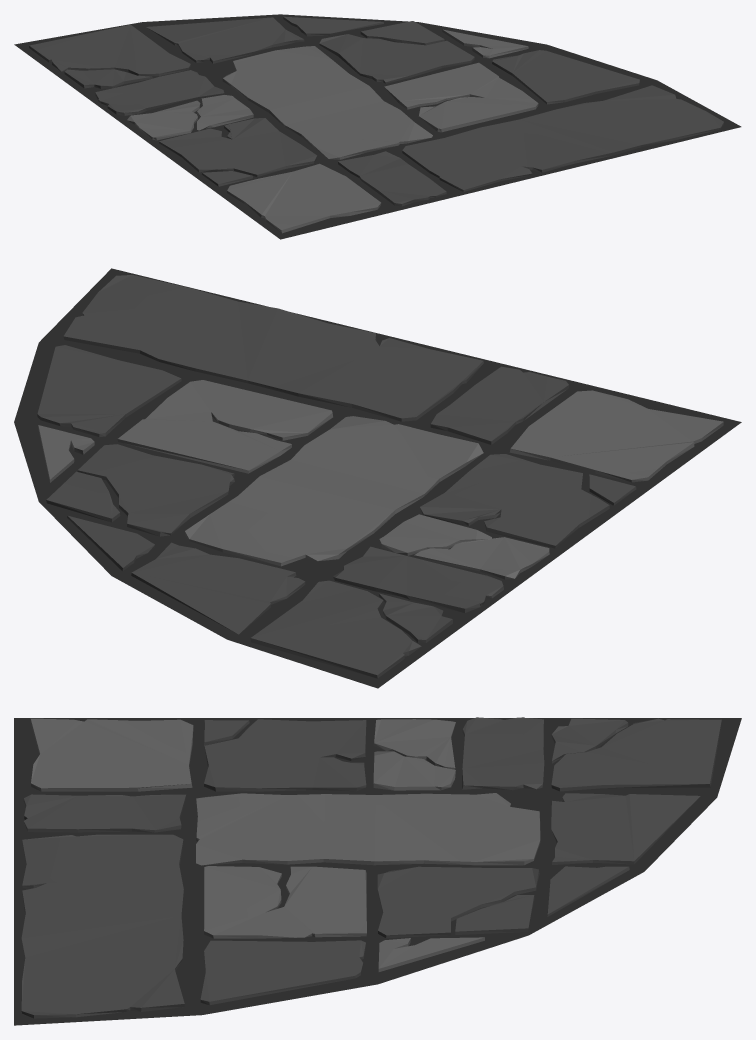
Rendered from FloorCorner_01.glb.
3 renders of one model, top to bottom at view 1: azimuth 30°, elevation 25°; view 2: azimuth 150°, elevation 25°; view 3: azimuth 270°, elevation 25°, orthographic. The views are drawn at different scales.
Visible parts, largest first — view 1: FloorCorner_01; view 2: FloorCorner_01; view 3: FloorCorner_01.
Boxes of the visible parts, x1=… form: FloorCorner_01: x1=14, y1=14, x2=741, y2=239; FloorCorner_01: x1=14, y1=268, x2=741, y2=688; FloorCorner_01: x1=14, y1=717, x2=741, y2=1025.
Size of what is drawn, in the model's own units: 4 by 0.0335 by 4.
Materials: 1 (1 with a texture image).
